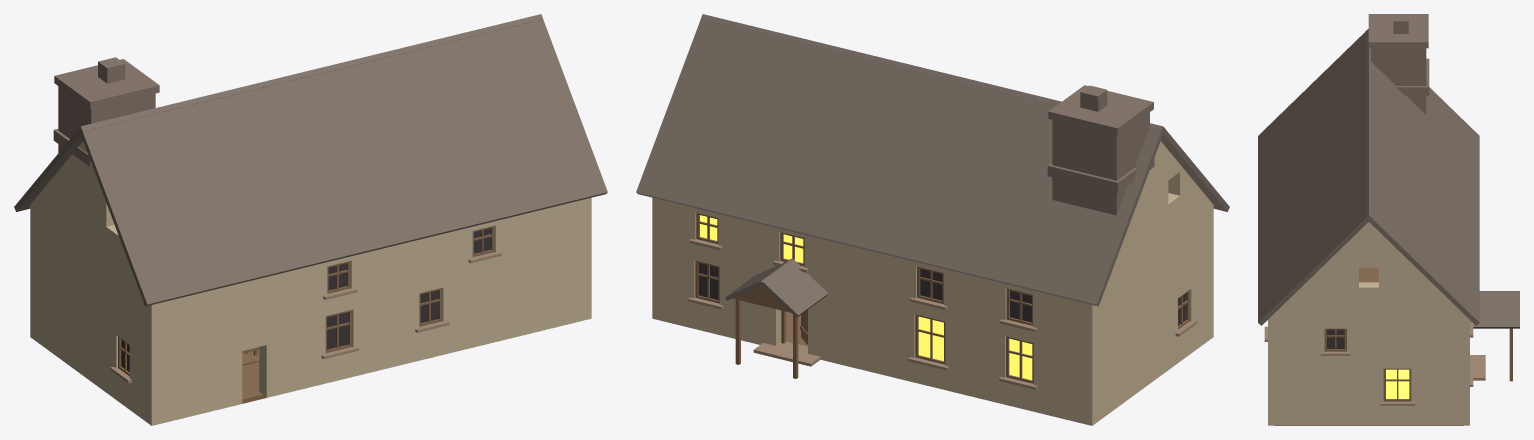
Rendered from farmhouse.glb.
The picture shows the model from 3 angles, left to right: view 1: azimuth 30°, elevation 25°; view 2: azimuth 150°, elevation 25°; view 3: azimuth 270°, elevation 25°; orthographic projection. The views are drawn at different scales.
Parts seen in each view (by area): view 1: Mesh_Roof_positive, Mesh_House_back_left, Mesh_House_right_Panel17, Mesh_House_right_Panel1, Mesh_House_right_Panel11, Mesh_House_right_Panel3, Mesh_House_Gable_negative, Mesh_Roof_negative, Mesh_House_right_Panel14, Mesh_Stack_Cap, Mesh_House_back_right, Mesh_Stack_Shaft (+12 smaller); view 2: Mesh_Roof_negative, Mesh_House_left_Panel17, Mesh_House_back_left, Mesh_House_left_Panel9, Mesh_House_left_Panel1, Mesh_Stack_Shaft, Mesh_House_left_Panel22, Mesh_House_Gable_negative, Mesh_House_left_Panel30, Mesh_Roof_positive, Mesh_Stack_Cap, Mesh_House_back_right (+15 smaller); view 3: Mesh_Roof_positive, Mesh_Roof_negative, Mesh_House_Gable_positive, Mesh_House_front_Panel1, Mesh_House_front_Panel7, Mesh_House_front_Panel4, Mesh_Stack_Shaft, Mesh_Stack_Cap, Mesh_House_front_Panel3, Mesh_House_front_Panel5, Mesh_Porch_SlopeB, Mesh_House_CornerES (+9 smaller).
Part boxes in pixels (x1=…): Mesh_Roof_positive: x1=78, y1=19, x2=607, y2=306; Mesh_House_back_left: x1=34, y1=200, x2=117, y2=399; Mesh_House_right_Panel17: x1=494, y1=199, x2=585, y2=341; Mesh_House_right_Panel1: x1=158, y1=283, x2=242, y2=424; Mesh_House_right_Panel11: x1=352, y1=240, x2=419, y2=376; Mesh_House_right_Panel3: x1=259, y1=262, x2=325, y2=397; Mesh_House_Gable_negative: x1=34, y1=141, x2=131, y2=271; Mesh_Roof_negative: x1=14, y1=14, x2=542, y2=211; Mesh_House_right_Panel14: x1=442, y1=226, x2=472, y2=354; Mesh_Stack_Cap: x1=54, y1=59, x2=159, y2=109; Mesh_House_back_right: x1=129, y1=271, x2=147, y2=422; Mesh_Stack_Shaft: x1=58, y1=86, x2=155, y2=152; Mesh_Roof_negative: x1=636, y1=19, x2=1165, y2=306; Mesh_House_left_Panel17: x1=808, y1=235, x2=915, y2=382; Mesh_House_back_left: x1=1096, y1=224, x2=1177, y2=422; Mesh_House_left_Panel9: x1=945, y1=269, x2=1005, y2=404; Mesh_House_left_Panel1: x1=1033, y1=291, x2=1085, y2=423; Mesh_Stack_Shaft: x1=1052, y1=112, x2=1149, y2=215; Mesh_House_left_Panel22: x1=719, y1=214, x2=781, y2=345; Mesh_House_Gable_negative: x1=1112, y1=141, x2=1209, y2=271; Mesh_House_left_Panel30: x1=658, y1=199, x2=695, y2=328; Mesh_Roof_positive: x1=701, y1=14, x2=1229, y2=211; Mesh_Stack_Cap: x1=1048, y1=85, x2=1153, y2=135; Mesh_House_back_right: x1=1189, y1=200, x2=1209, y2=352; Mesh_Roof_positive: x1=1258, y1=32, x2=1372, y2=325; Mesh_Roof_negative: x1=1365, y1=29, x2=1479, y2=325; Mesh_House_Gable_positive: x1=1279, y1=222, x2=1458, y2=309; Mesh_House_front_Panel1: x1=1411, y1=309, x2=1463, y2=425; Mesh_House_front_Panel7: x1=1274, y1=309, x2=1324, y2=425; Mesh_House_front_Panel4: x1=1347, y1=309, x2=1383, y2=425; Mesh_Stack_Shaft: x1=1371, y1=48, x2=1426, y2=114; Mesh_Stack_Cap: x1=1368, y1=14, x2=1428, y2=48; Mesh_House_front_Panel3: x1=1383, y1=309, x2=1411, y2=368; Mesh_House_front_Panel5: x1=1324, y1=356, x2=1346, y2=425; Mesh_Porch_SlopeB: x1=1470, y1=291, x2=1519, y2=328; Mesh_House_CornerES: x1=1457, y1=310, x2=1469, y2=425.
Bounding box in the file's own units: 20.05 × 12.42 × 11.87.
